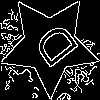D: (25, 20, 80, 76)
